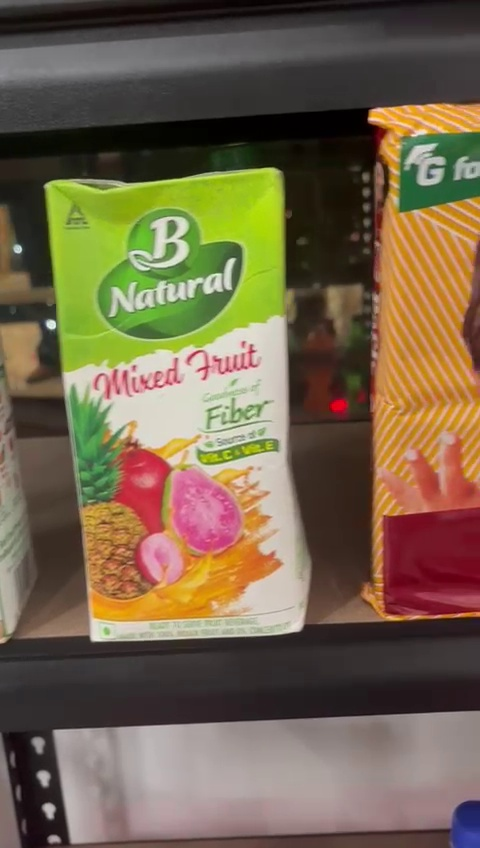Mixed Fruit: (41, 171, 314, 651)
